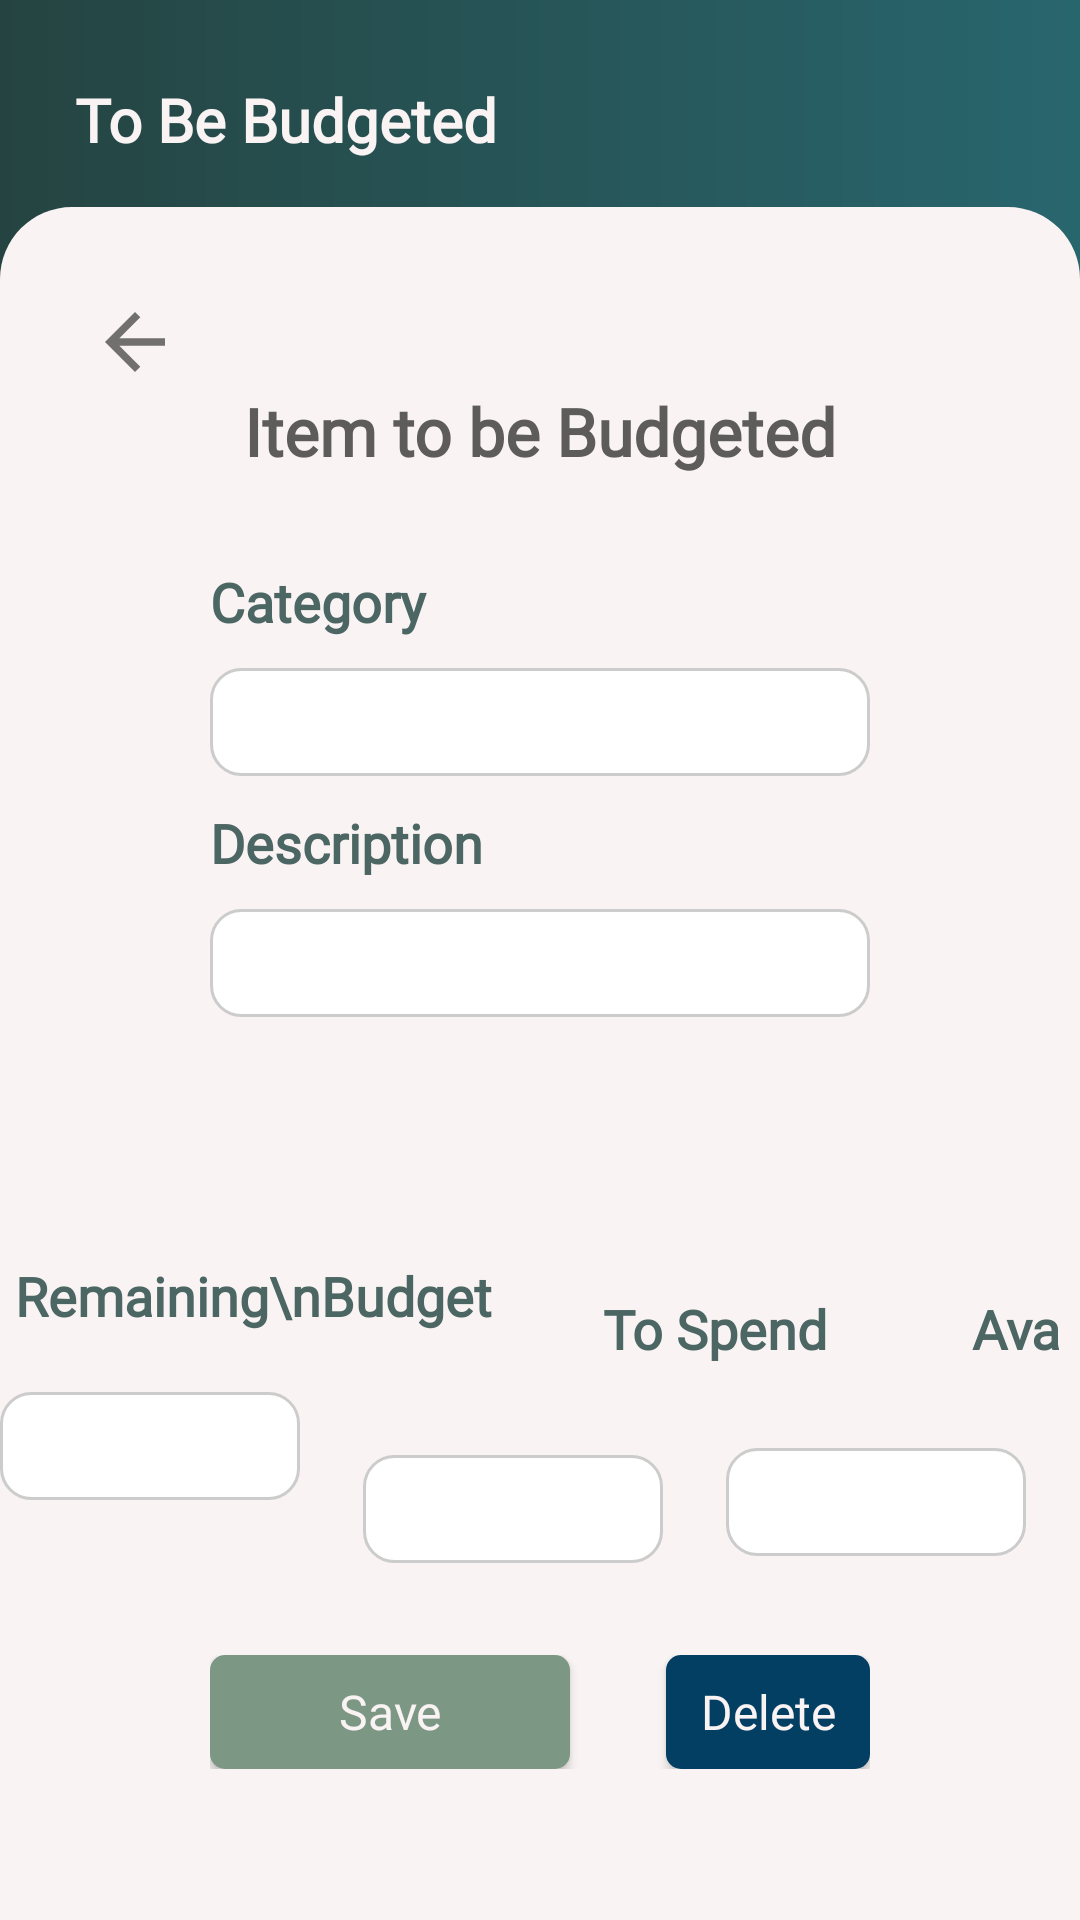

Icons on this 1080x1920 Android screen, each with the point to tap as [x,y]:
arrow back: [135,342]
